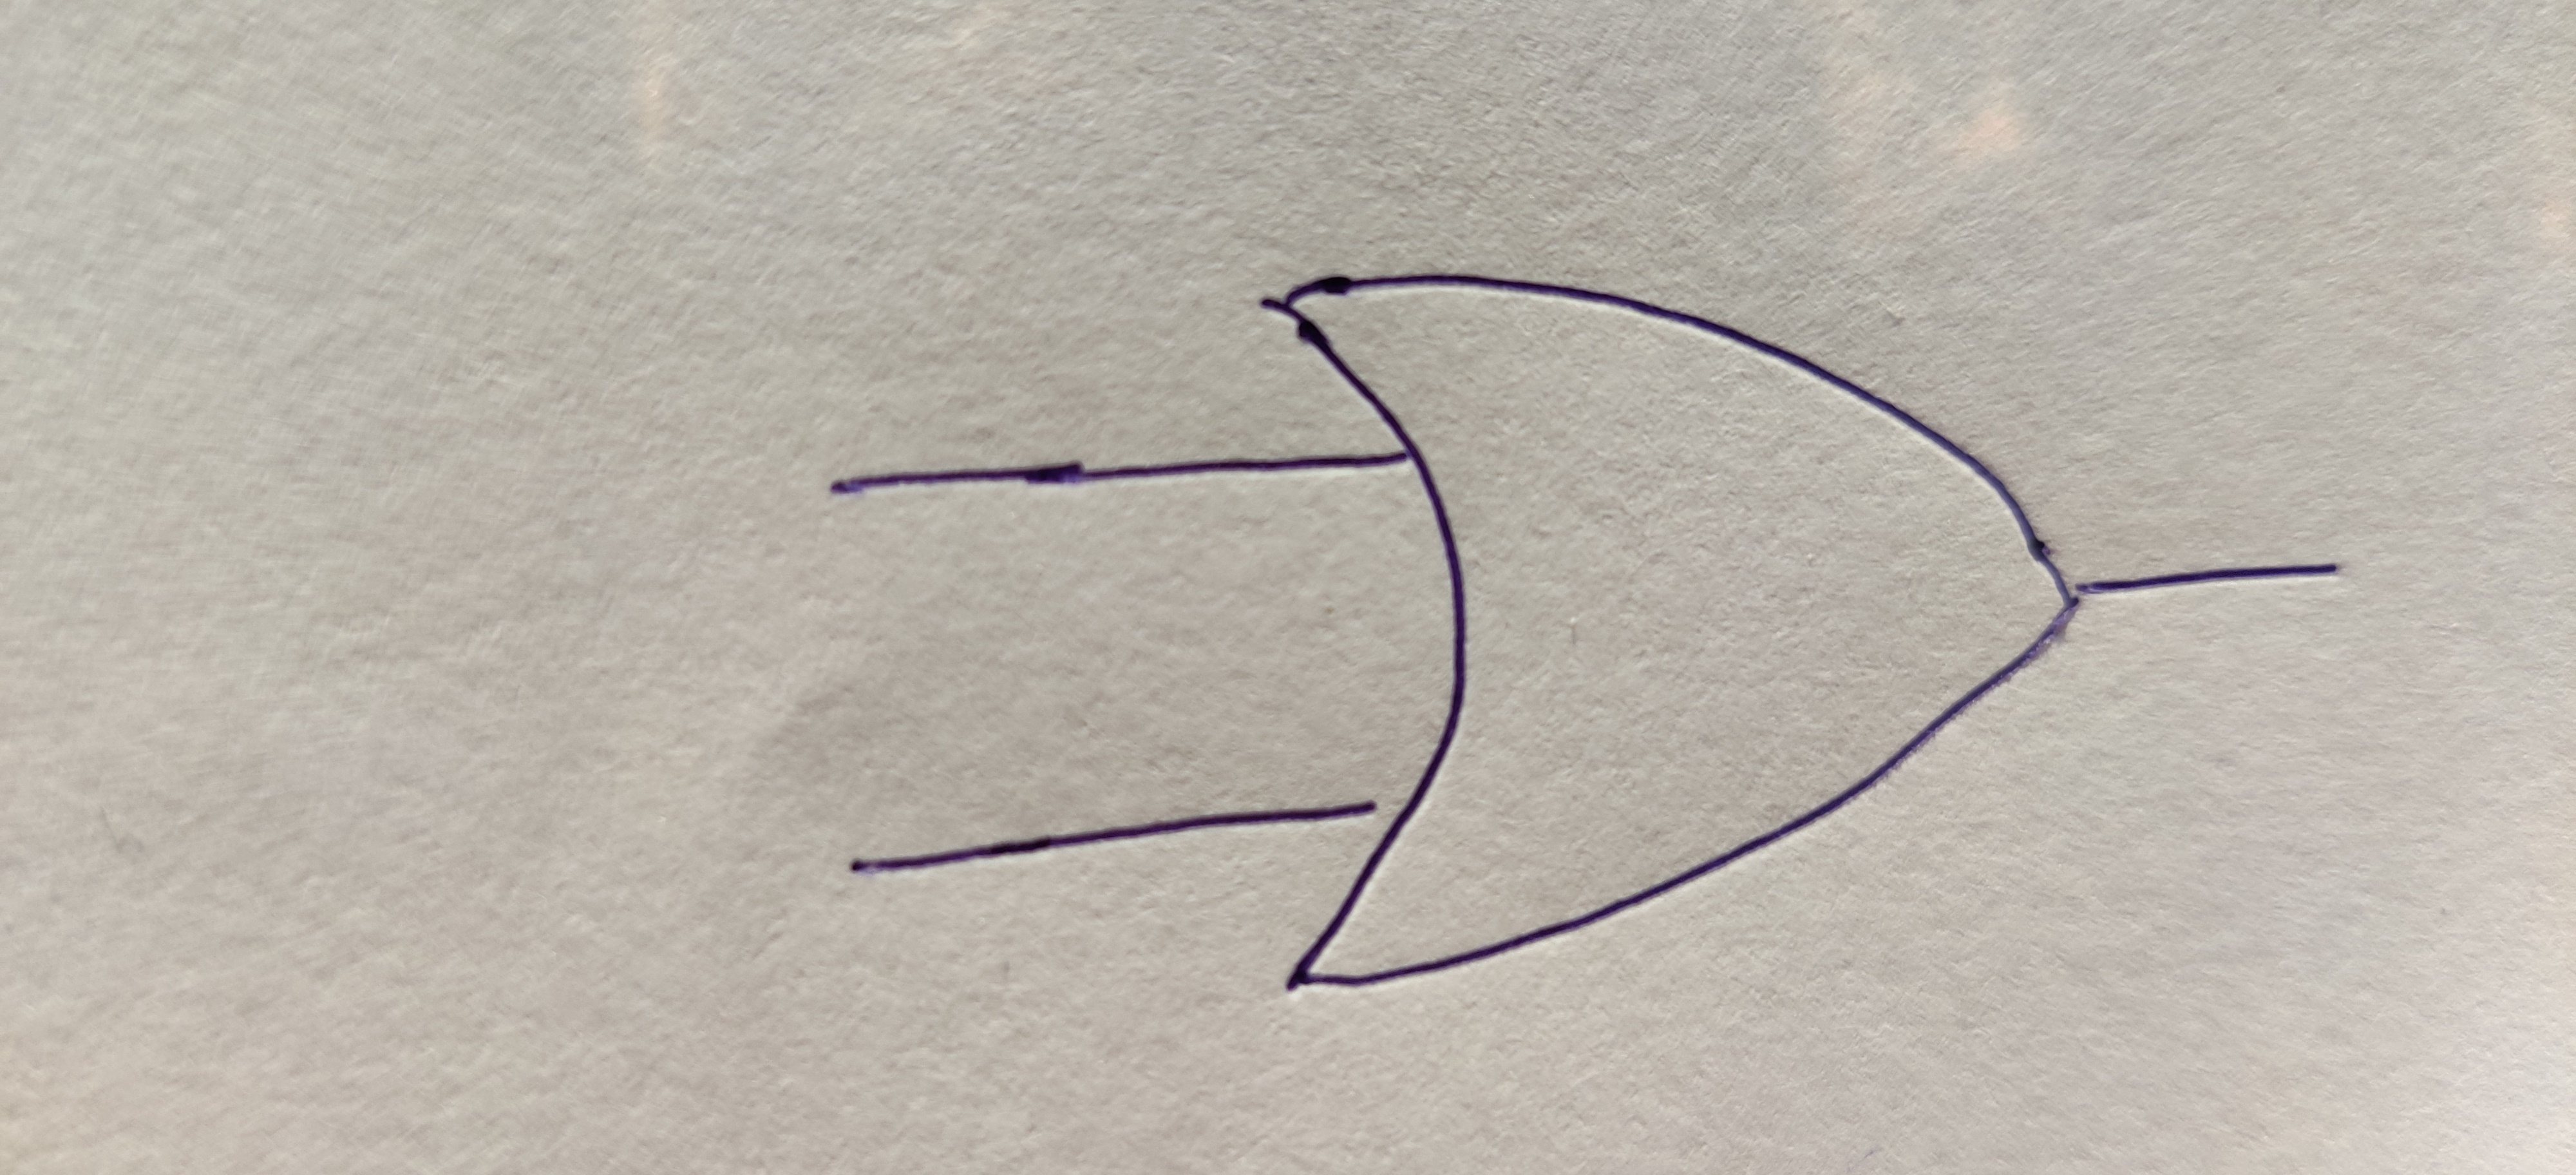or: (1270, 279, 2075, 978)
